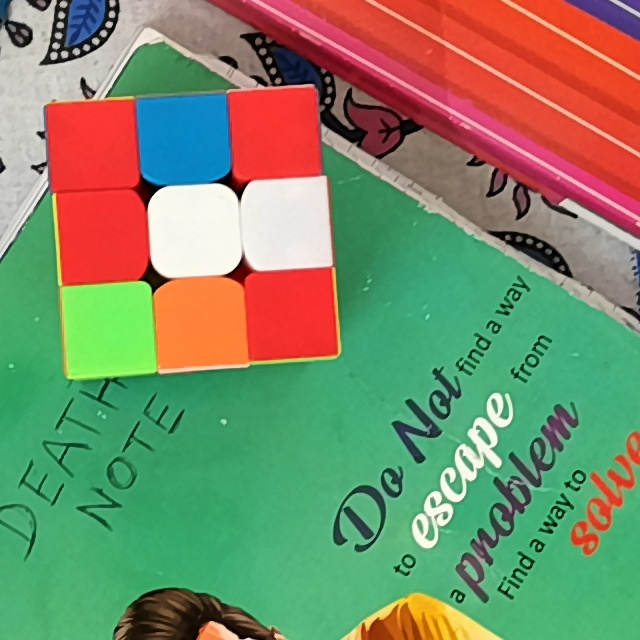tile: (63, 196, 141, 273), (141, 101, 223, 173), (160, 289, 243, 359), (238, 95, 315, 170), (52, 107, 130, 181), (67, 293, 145, 367), (252, 279, 332, 348), (250, 188, 323, 262), (156, 198, 233, 267)
